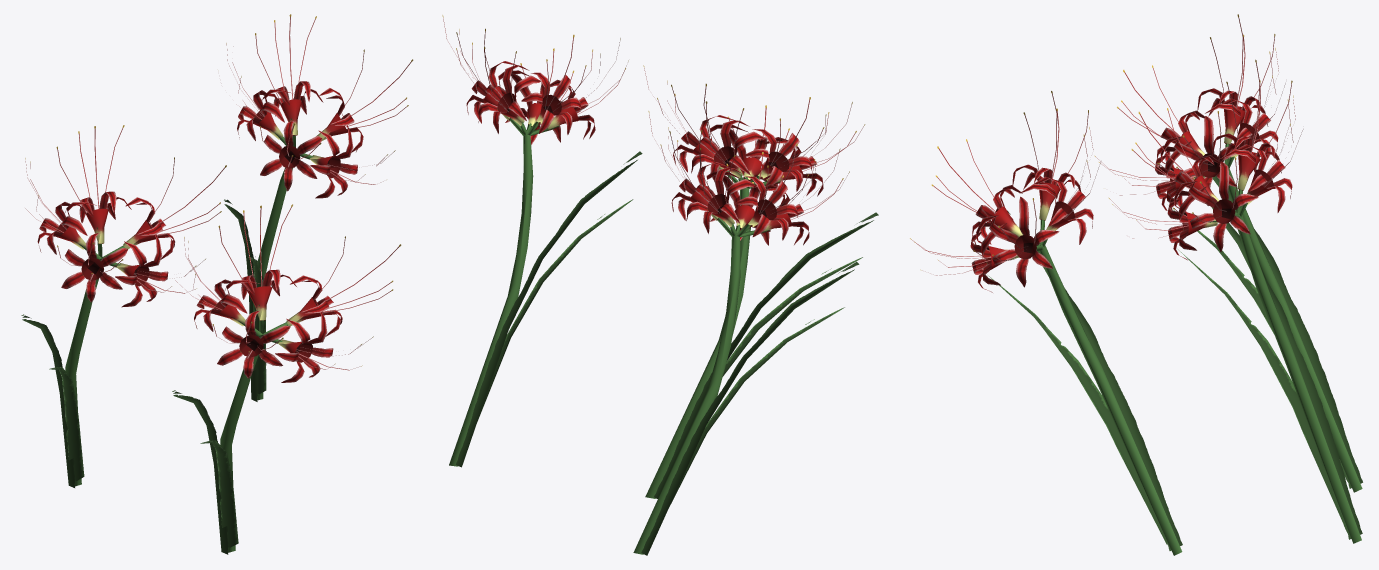
The model's file is flowers2.obj.
3 views of the same model, side by side, from view 1: azimuth 30°, elevation 25°; view 2: azimuth 150°, elevation 25°; view 3: azimuth 270°, elevation 25° (orthographic). The views are drawn at different scales.
Parts seen in each view (by area): view 1: Uchujin_Main2, Uchujin_Main2.001, Uchujin_Main2.002; view 2: Uchujin_Main2.001, Uchujin_Main2.002, Uchujin_Main2; view 3: Uchujin_Main2, Uchujin_Main2.002, Uchujin_Main2.001.
Boxes of the visible parts, x1=… form: Uchujin_Main2: x1=172, y1=204, x2=401, y2=554; Uchujin_Main2.001: x1=21, y1=125, x2=226, y2=487; Uchujin_Main2.002: x1=221, y1=14, x2=413, y2=401; Uchujin_Main2.001: x1=633, y1=111, x2=859, y2=555; Uchujin_Main2.002: x1=442, y1=15, x2=642, y2=467; Uchujin_Main2: x1=643, y1=65, x2=878, y2=498; Uchujin_Main2: x1=910, y1=91, x2=1182, y2=555; Uchujin_Main2.002: x1=1108, y1=59, x2=1362, y2=543; Uchujin_Main2.001: x1=1094, y1=14, x2=1362, y2=492.
Size of the model in its own units: 0.1877 by 0.2116 by 0.1692.
Materials: 3 (3 with a texture image).
